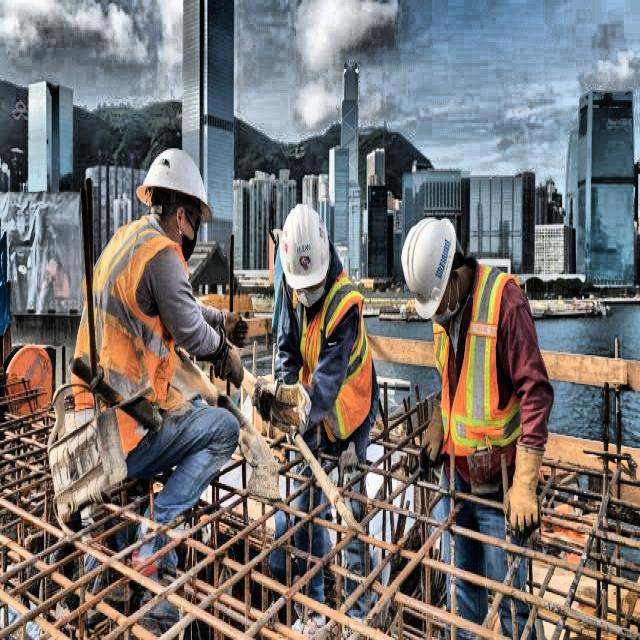safety_helmet: (123, 140, 221, 231), (397, 204, 459, 319), (277, 201, 334, 295)
safety_jacket: (70, 214, 190, 460), (264, 259, 376, 448), (431, 261, 527, 474)
